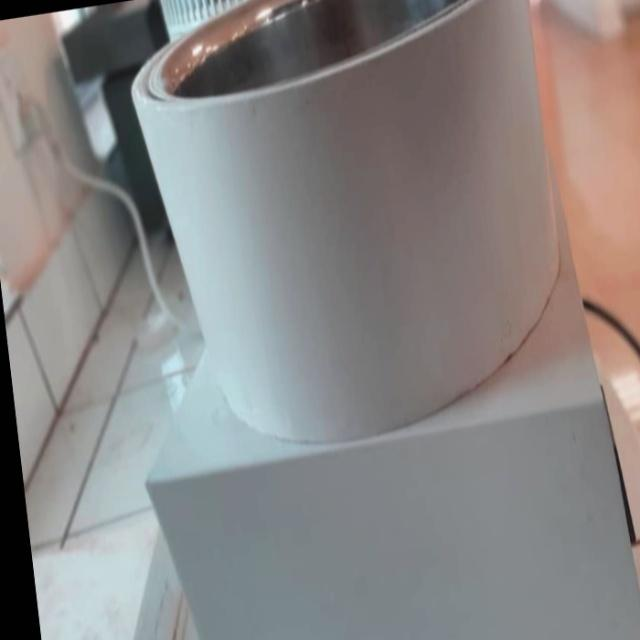Water-Oil Bath: (103, 0, 626, 640)
